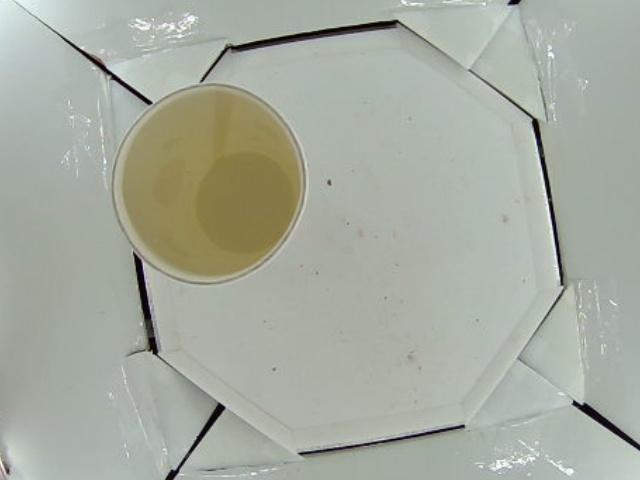Cup: (108, 82, 307, 285)
